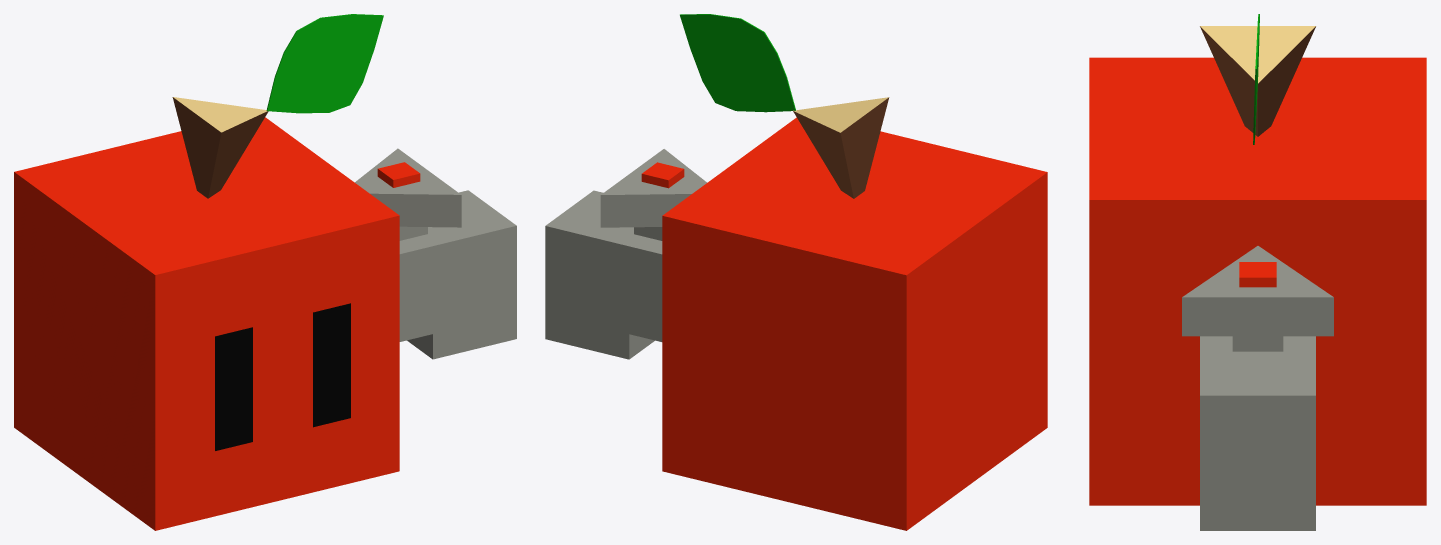
File: ringo-zyaguti.glb
3 renders of one model, left to right at view 1: azimuth 30°, elevation 25°; view 2: azimuth 150°, elevation 25°; view 3: azimuth 270°, elevation 25°, orthographic. The views are drawn at different scales.
Visible parts, largest first — view 1: haco_antena:pCube1, pCube4, haco_ringo:pPlane3, haco_ringo:pCone1, pPlane5, haco_antena:pPlane2, haco_antena:pPlane1; view 2: haco_antena:pCube1, pCube4, haco_ringo:pPlane3, haco_ringo:pCone1, pPlane5; view 3: haco_antena:pCube1, pCube4, pPlane5, haco_ringo:pCone1, pCube5, haco_ringo:pPlane3.
Part boxes in pixels (bbox=[...]): haco_antena:pCube1: bbox=[14, 117, 399, 530]; pCube4: bbox=[399, 190, 516, 359]; haco_ringo:pPlane3: bbox=[266, 14, 383, 113]; haco_ringo:pCone1: bbox=[172, 97, 268, 198]; pPlane5: bbox=[355, 148, 461, 227]; haco_antena:pPlane2: bbox=[313, 303, 350, 427]; haco_antena:pPlane1: bbox=[215, 327, 252, 450]; haco_antena:pCube1: bbox=[662, 117, 1047, 530]; pCube4: bbox=[545, 190, 662, 359]; haco_ringo:pPlane3: bbox=[680, 14, 795, 112]; haco_ringo:pCone1: bbox=[793, 97, 889, 198]; pPlane5: bbox=[600, 149, 706, 227]; haco_antena:pCube1: bbox=[1089, 57, 1426, 505]; pCube4: bbox=[1200, 336, 1315, 530]; pPlane5: bbox=[1182, 246, 1333, 336]; haco_ringo:pCone1: bbox=[1200, 26, 1315, 136]; pCube5: bbox=[1232, 336, 1283, 351]; haco_ringo:pPlane3: bbox=[1253, 14, 1259, 144].
Size of the model in its own units: 0.0834 by 0.0789 by 0.0519.
2 materials, 2 textured.
